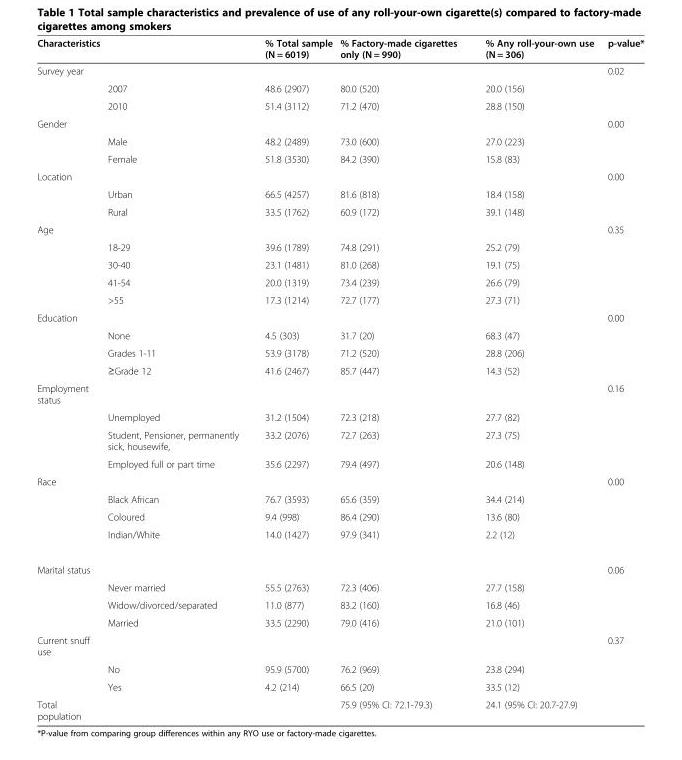table: (36, 36, 643, 721)
table column: (103, 36, 251, 721), (335, 36, 470, 721), (470, 36, 600, 721), (251, 36, 335, 721), (36, 36, 103, 721), (600, 36, 643, 721)
table column header: (36, 36, 643, 62)
table row: (36, 379, 643, 408), (36, 425, 643, 454), (36, 631, 643, 660), (36, 551, 643, 578), (36, 36, 643, 62), (36, 525, 643, 551), (36, 695, 643, 721), (36, 96, 643, 114), (36, 114, 643, 132), (36, 149, 643, 167), (36, 167, 643, 185), (36, 202, 643, 220), (36, 220, 643, 238), (36, 255, 643, 273), (36, 290, 643, 308), (36, 308, 643, 326), (36, 343, 643, 361), (36, 361, 643, 379), (36, 454, 643, 472), (36, 472, 643, 490), (36, 507, 643, 525), (36, 595, 643, 613), (36, 613, 643, 631), (36, 677, 643, 695), (36, 62, 643, 79), (36, 79, 643, 96), (36, 132, 643, 149), (36, 185, 643, 202), (36, 238, 643, 255), (36, 273, 643, 290), (36, 326, 643, 343), (36, 408, 643, 425), (36, 490, 643, 507), (36, 578, 643, 595), (36, 660, 643, 677)
table spanning cell: (36, 379, 103, 472), (36, 220, 103, 308), (36, 551, 103, 631), (36, 472, 103, 551), (36, 308, 103, 379), (36, 631, 103, 695), (36, 114, 103, 167), (36, 167, 103, 220), (36, 62, 103, 114)
